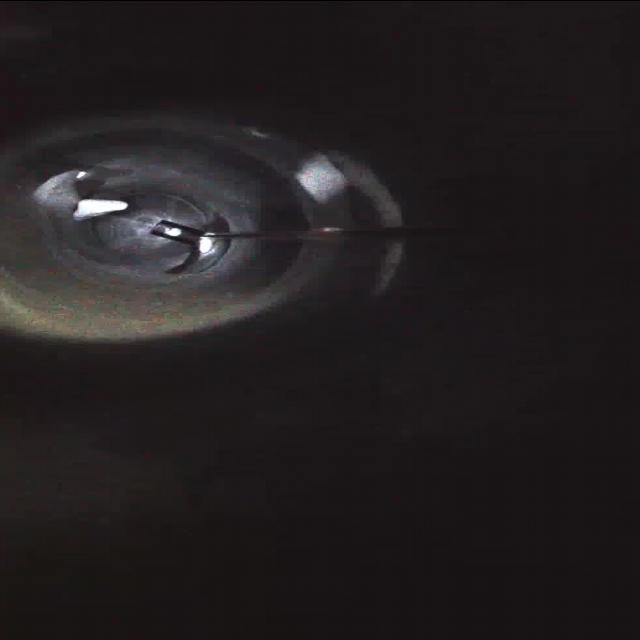impurity: (66, 194, 132, 223)
